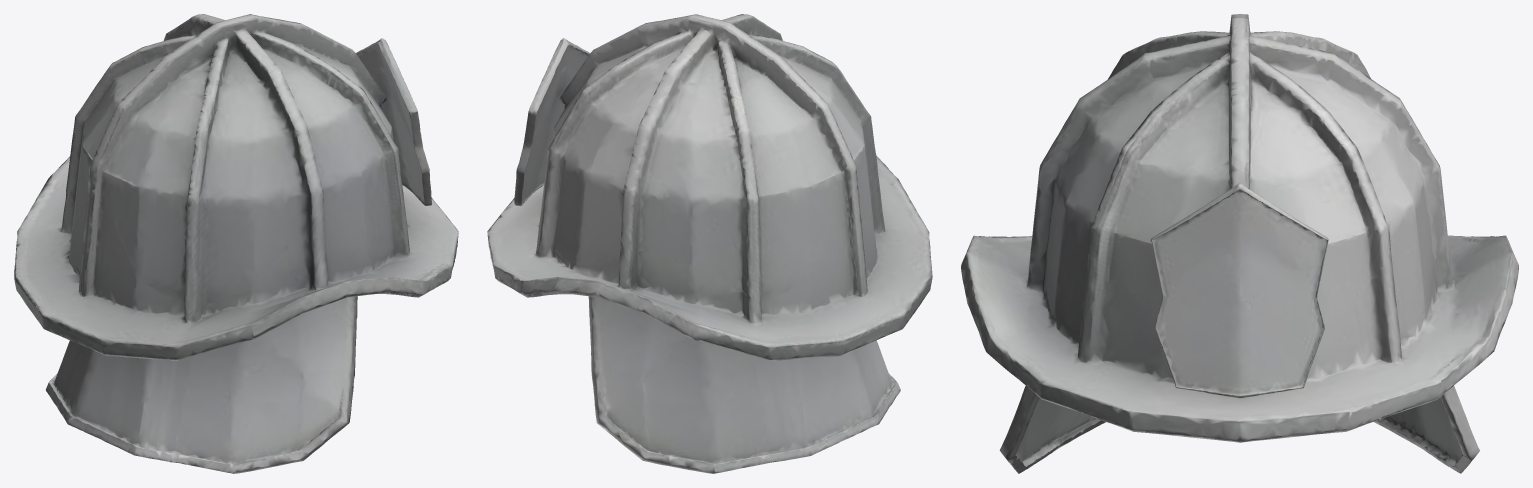
File: farda_capacete_bombeiro.glb
3 renders of one model, left to right at view 1: azimuth 30°, elevation 25°; view 2: azimuth 150°, elevation 25°; view 3: azimuth 270°, elevation 25°, orthographic. The views are drawn at different scales.
Visible parts, largest first — view 1: tripo_node_6da54689-a084-4853-95da-4c8633ac09b5; view 2: tripo_node_6da54689-a084-4853-95da-4c8633ac09b5; view 3: tripo_node_6da54689-a084-4853-95da-4c8633ac09b5.
Boxes of the visible parts, x1=… form: tripo_node_6da54689-a084-4853-95da-4c8633ac09b5: x1=14, y1=14, x2=458, y2=473; tripo_node_6da54689-a084-4853-95da-4c8633ac09b5: x1=487, y1=14, x2=932, y2=473; tripo_node_6da54689-a084-4853-95da-4c8633ac09b5: x1=961, y1=14, x2=1518, y2=473.
Bounding box in the file's own units: 0.9978 × 0.9332 × 1.
1 material, 1 textured.
